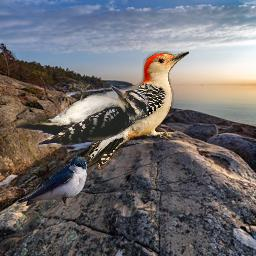Swallow: (16, 156, 87, 206)
Woodpecker: (75, 51, 189, 173), (14, 84, 156, 150)
